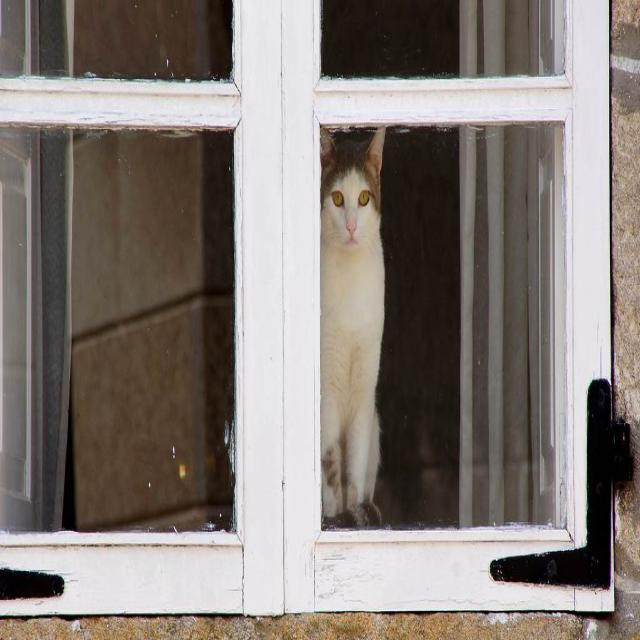Cat: (315, 122, 386, 529)
